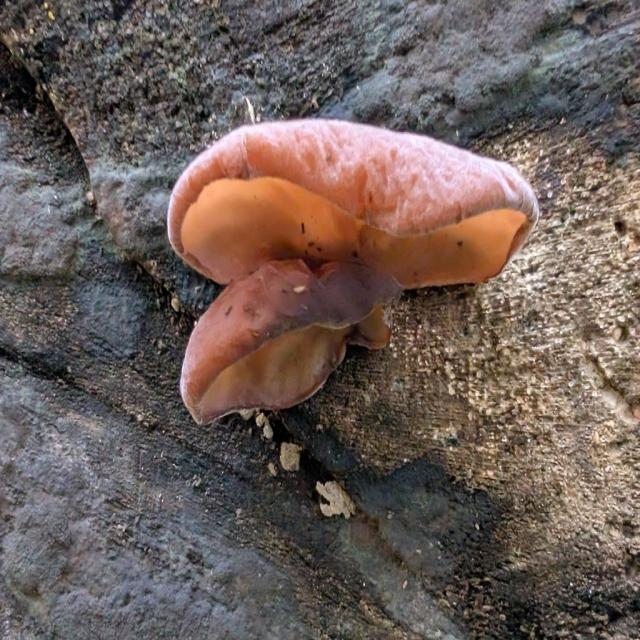Matang: (168, 115, 542, 298), (175, 255, 403, 424)
